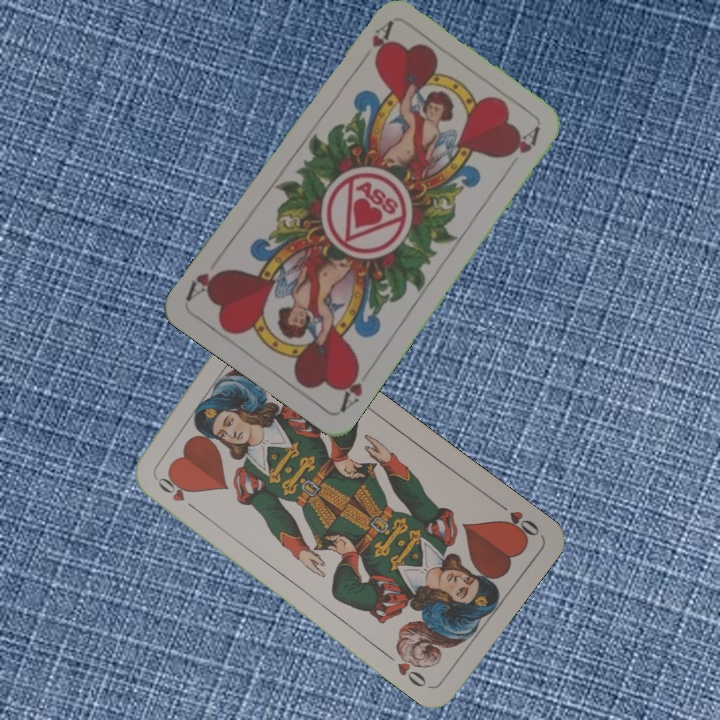HA: (353, 19, 395, 70), (335, 359, 366, 415)
HO: (492, 497, 542, 543), (150, 471, 200, 514)
